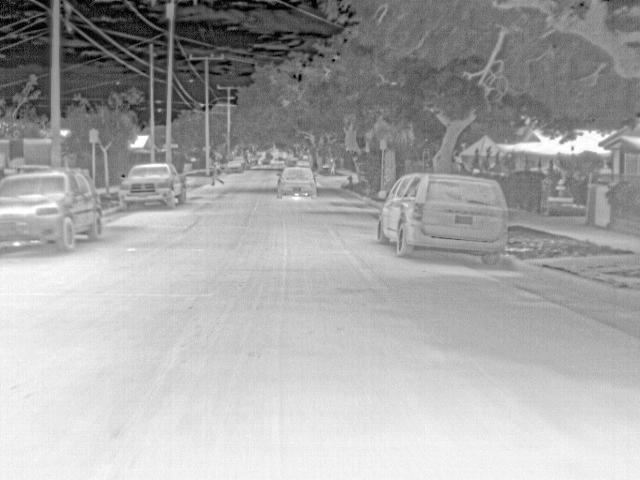car: (374, 171, 509, 268), (0, 168, 104, 252), (119, 161, 187, 211), (275, 166, 320, 200), (227, 160, 243, 174), (236, 154, 249, 168), (285, 157, 300, 168), (260, 153, 273, 165), (248, 154, 260, 167)
person: (210, 160, 222, 186), (329, 158, 338, 176)
